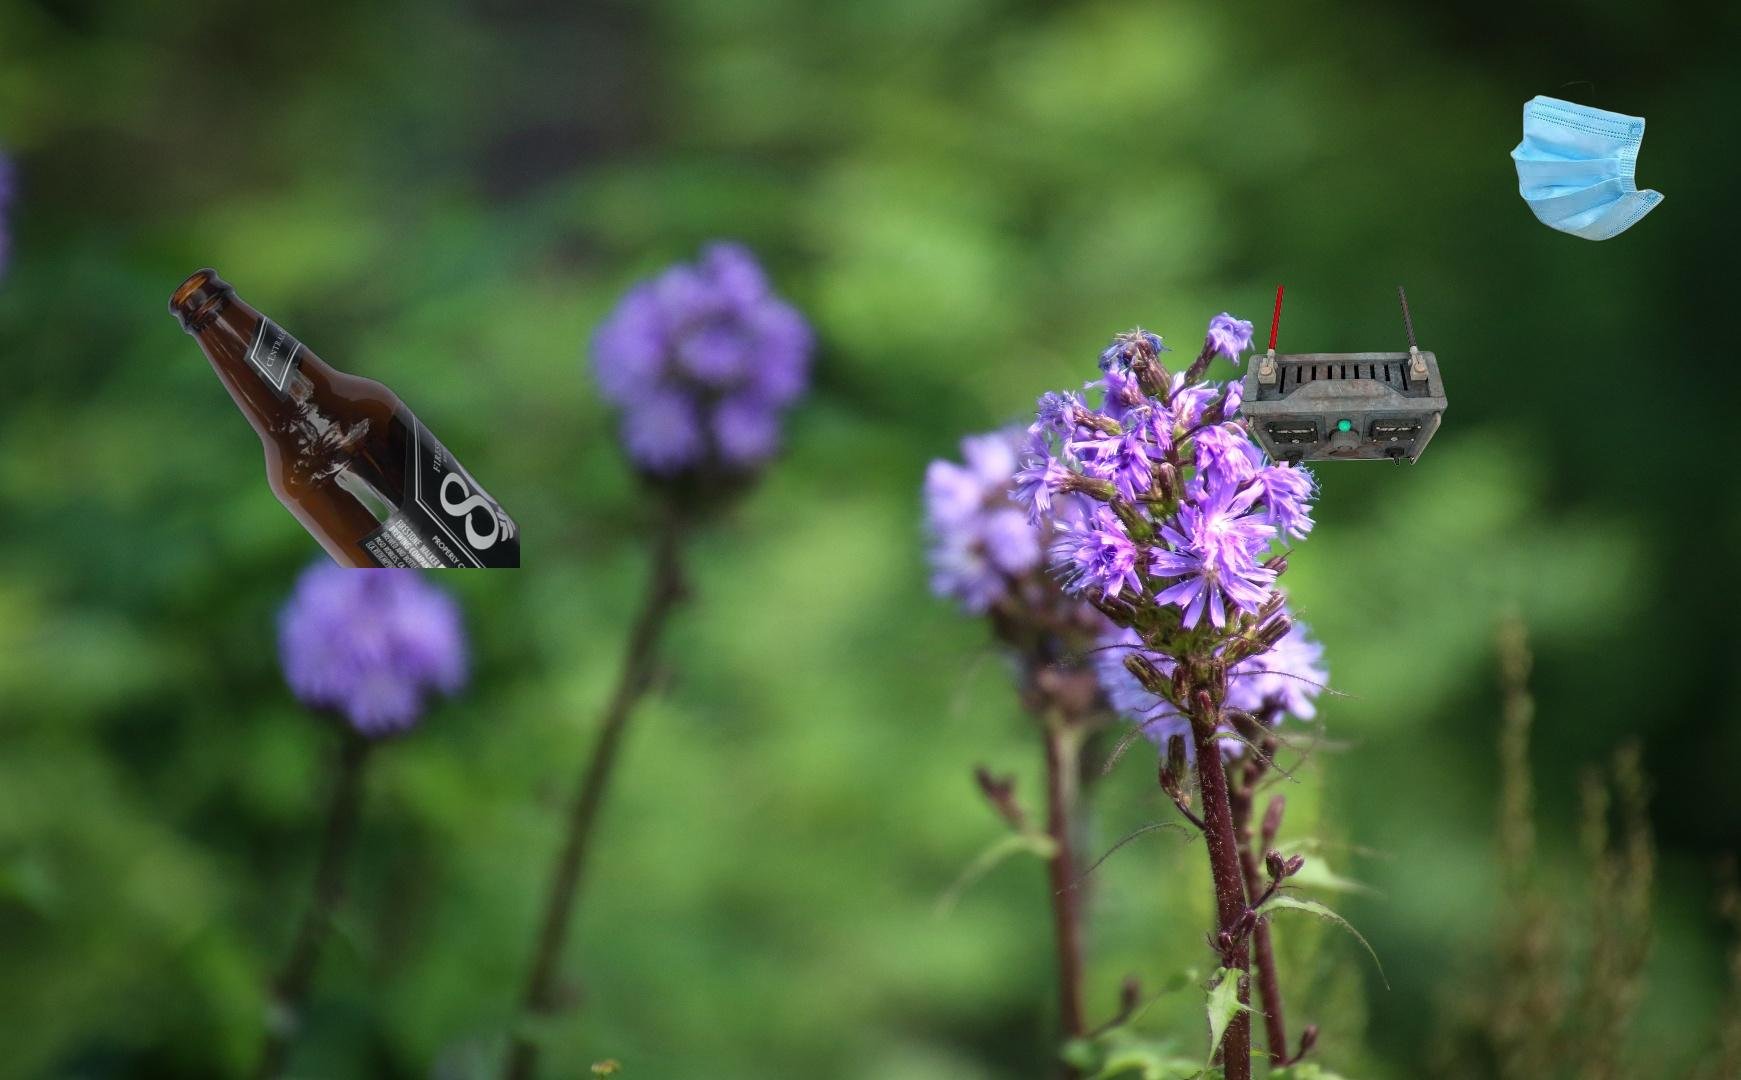battery: (1237, 286, 1451, 472)
glass: (163, 264, 520, 569)
trash: (1507, 78, 1668, 244)
